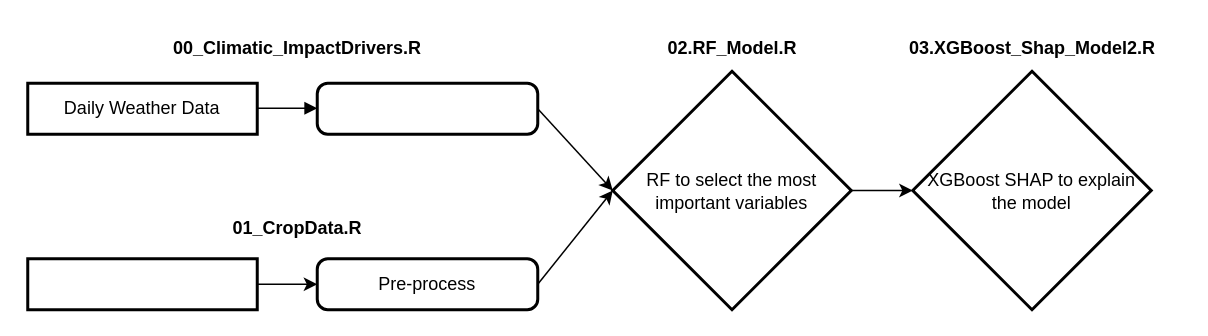
This 1208x336 diagram has some shape labels left out. Each missing label, with the box of its shape:
Annual crop yield data: (26, 256, 258, 310)
Convert to Climate Data: (315, 81, 538, 135)
